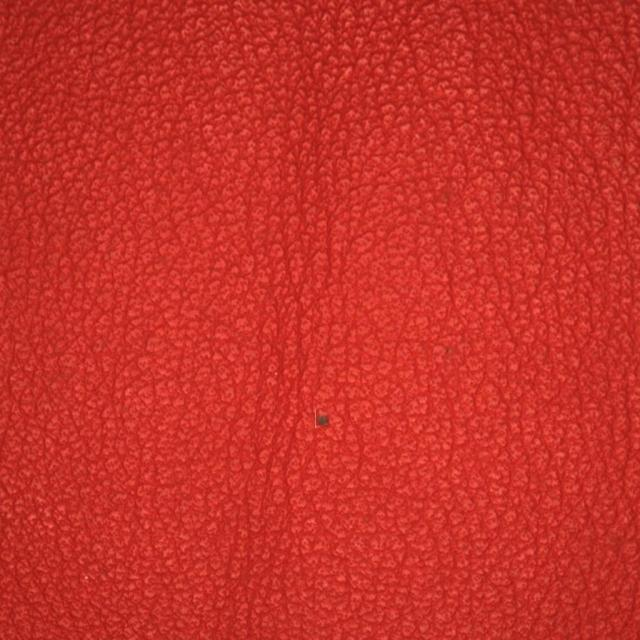Hole: (260, 342, 386, 527)
